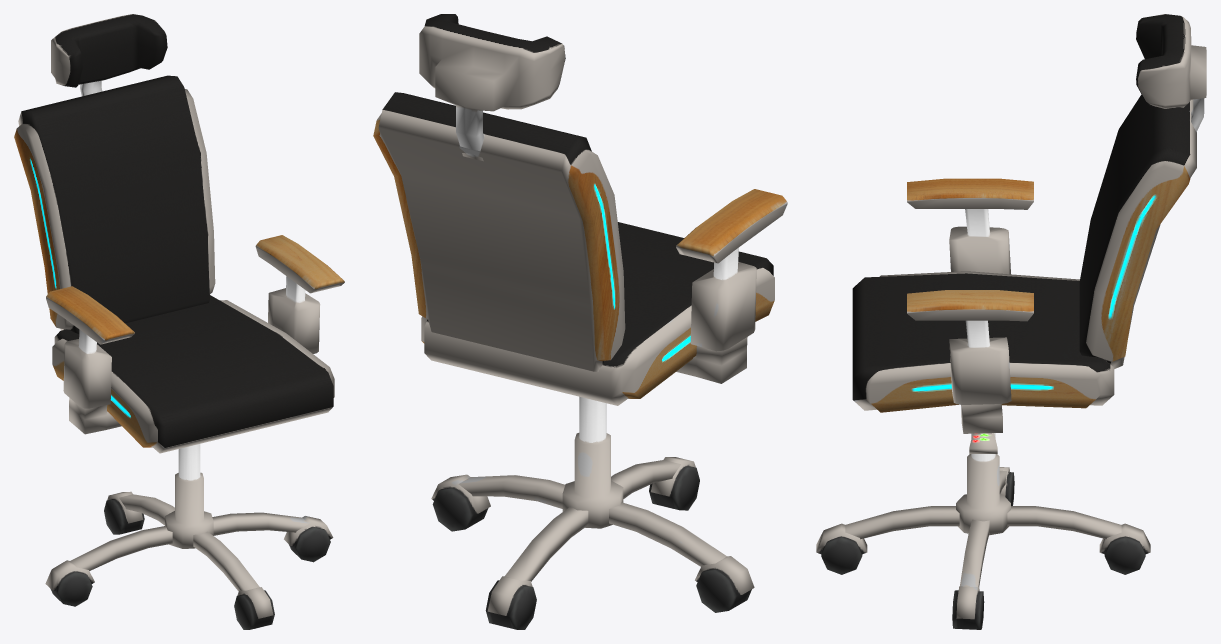
Rendered from silla_ejecutiva_LOWPOLY.fbx.
3 views of the same model, side by side, from view 1: azimuth 30°, elevation 25°; view 2: azimuth 150°, elevation 25°; view 3: azimuth 270°, elevation 25° (orthographic). The views are drawn at different scales.
Parts seen in each view (by area): view 1: Silla_Ejecutiva_LOWPOLY; view 2: Silla_Ejecutiva_LOWPOLY; view 3: Silla_Ejecutiva_LOWPOLY.
Part boxes in pixels (x1=…): Silla_Ejecutiva_LOWPOLY: x1=14, y1=14, x2=344, y2=629; Silla_Ejecutiva_LOWPOLY: x1=373, y1=14, x2=787, y2=629; Silla_Ejecutiva_LOWPOLY: x1=816, y1=14, x2=1206, y2=629.
Bounding box in the file's own units: 8.64 × 15.19 × 10.09.
